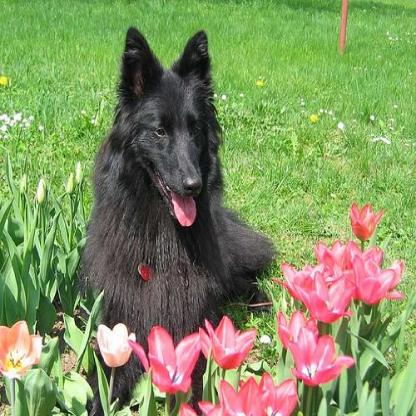groenendael: (82, 16, 278, 399)
